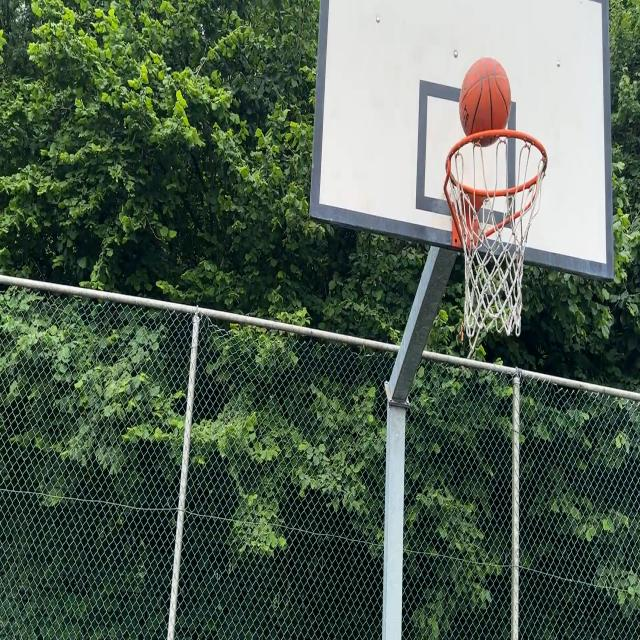rebound_hit: (460, 60, 511, 146)
